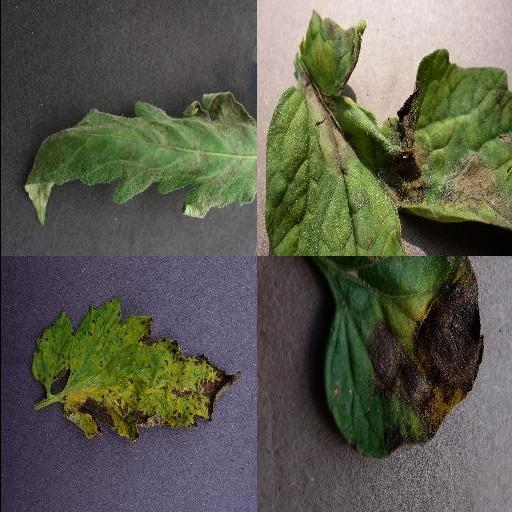Early Blight: (323, 256, 481, 458)
Late Blight: (264, 8, 512, 255), (22, 92, 256, 228)
Septoria: (31, 298, 241, 441)
